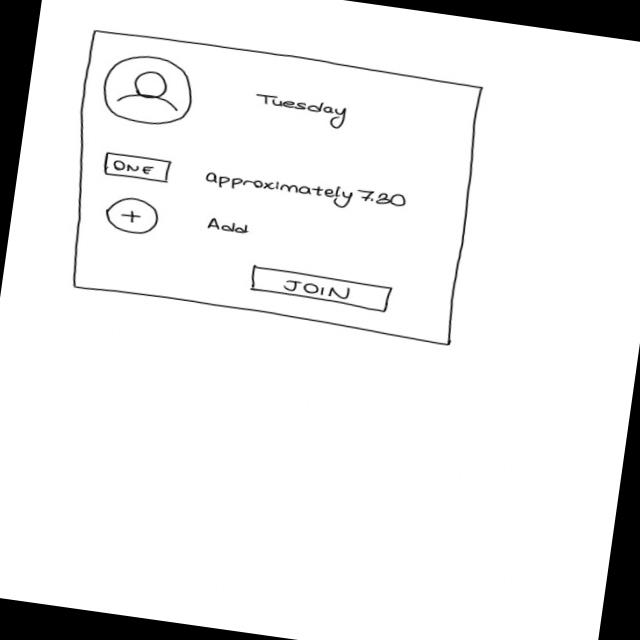button: (247, 264, 394, 314), (102, 151, 173, 185)
icon-button: (102, 195, 161, 238)
label: (203, 165, 409, 217), (252, 91, 350, 132), (204, 216, 252, 237)
